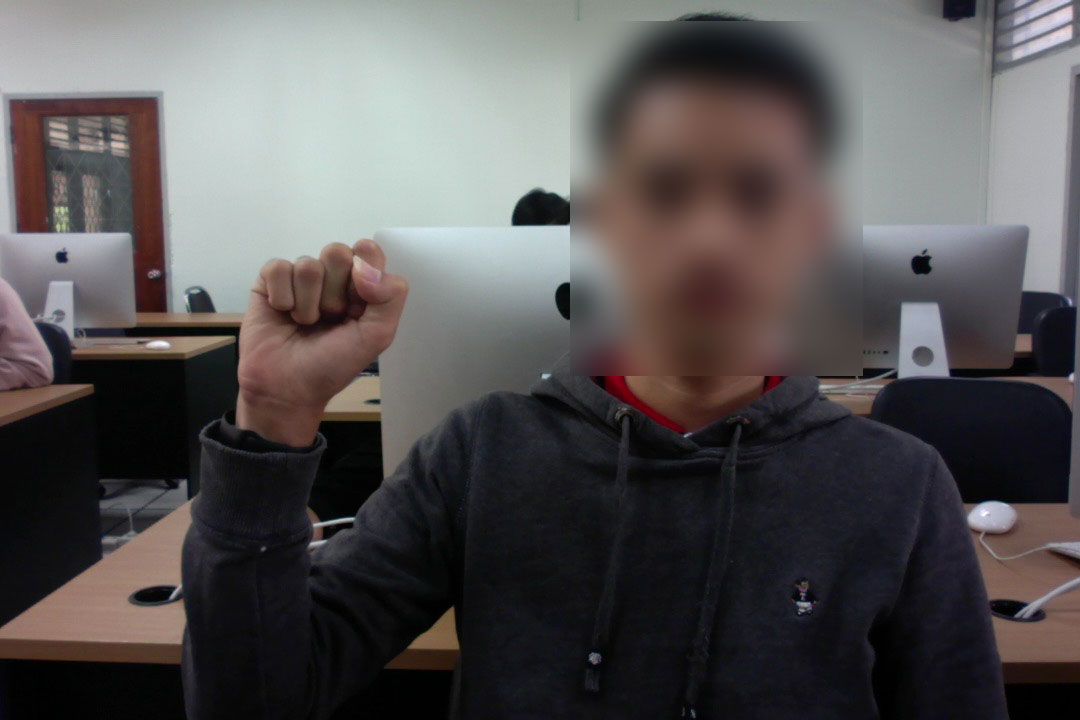sor: (231, 233, 413, 412)
